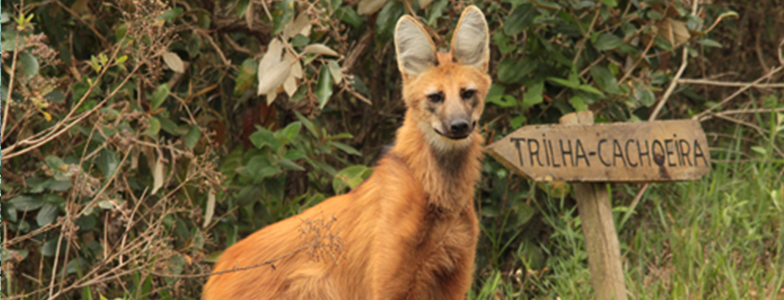LoboGuara: (172, 4, 490, 295)
